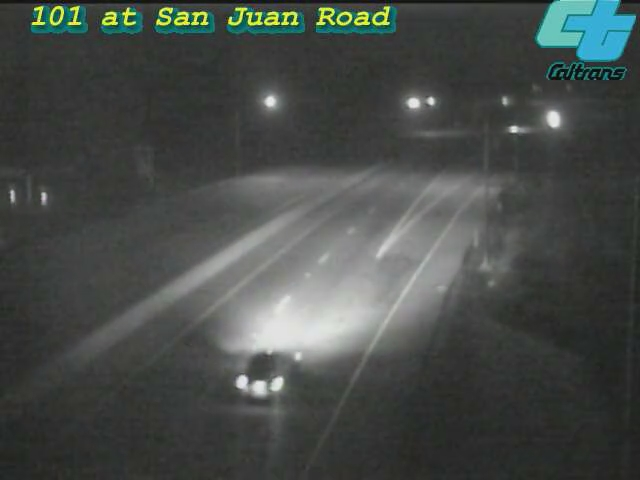vehicle: (211, 325, 321, 435), (491, 104, 541, 154), (527, 93, 577, 143)
